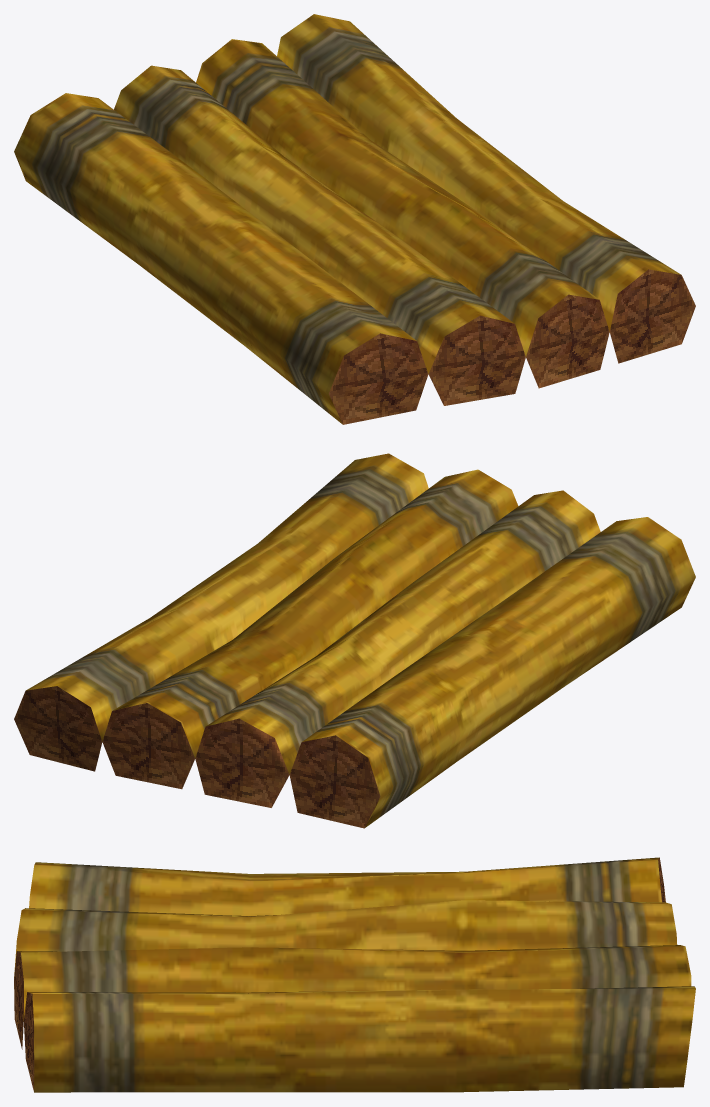
Rendered from INST_MIRK_RAFT_MODEL.fbx.
3 views of the same model, one above another, from view 1: azimuth 30°, elevation 25°; view 2: azimuth 150°, elevation 25°; view 3: azimuth 270°, elevation 25° (orthographic). The views are drawn at different scales.
Parts seen in each view (by area): view 1: INST_MIRK_RAFT_MODEL; view 2: INST_MIRK_RAFT_MODEL; view 3: INST_MIRK_RAFT_MODEL.
Part boxes in pixels (x1,y1,x2,y2): INST_MIRK_RAFT_MODEL: (14, 14, 695, 424); INST_MIRK_RAFT_MODEL: (14, 453, 695, 828); INST_MIRK_RAFT_MODEL: (14, 857, 695, 1092).
Size of the model in its own units: 13800 by 3474 by 22435.
2 materials, 2 textured.
